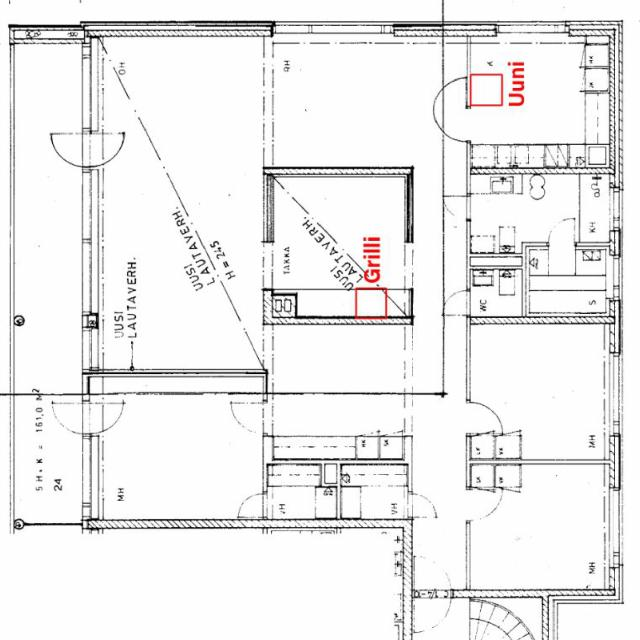door: (414, 554, 451, 597), (414, 589, 451, 632), (49, 133, 92, 166), (82, 133, 124, 166), (50, 402, 92, 433), (83, 402, 124, 433), (467, 489, 504, 521), (435, 108, 471, 140), (467, 403, 503, 433), (231, 403, 267, 433), (442, 290, 471, 315), (238, 493, 267, 517), (443, 195, 471, 219), (550, 218, 574, 246), (408, 493, 436, 517)
